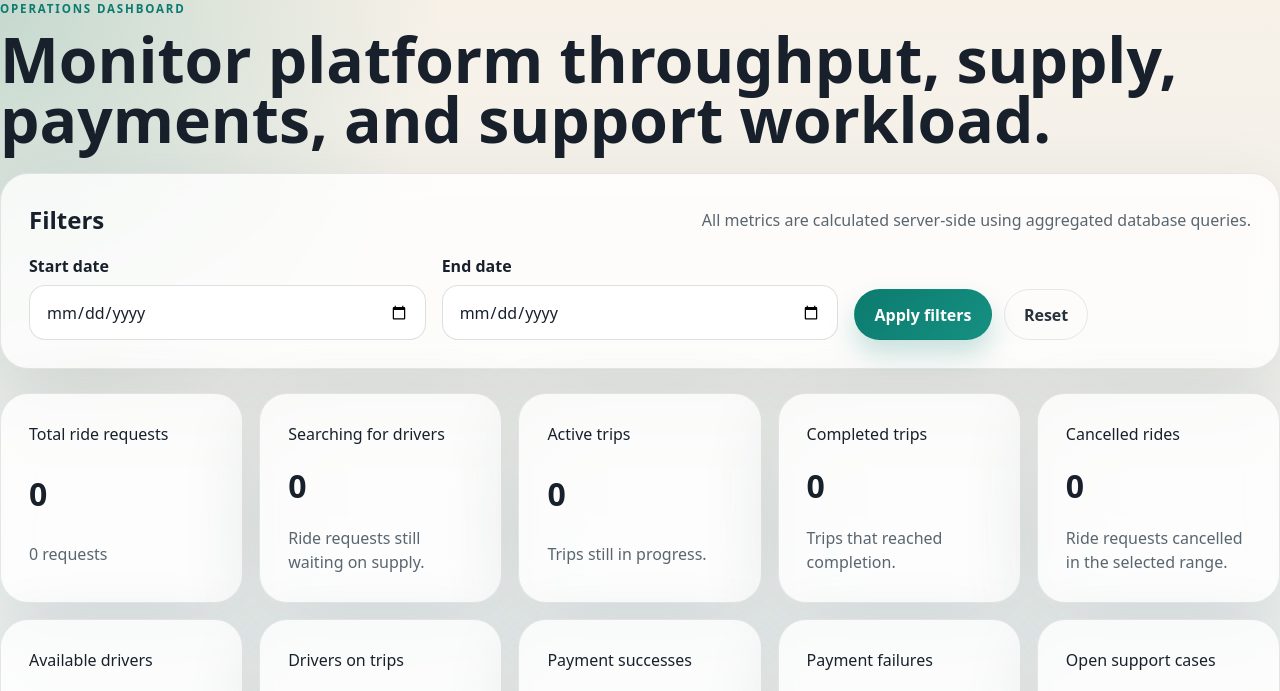
Scenario: OperationsDashboardPage › shows a validation error for an invalid date range and does not refetch metrics
This screenshot has width=1280, height=691.
Expected: the text "Operations dashboard" is shown, [0,1,186,16]
Type "2026-08-11" into the date field labelled "Start date" at (227, 313), box [29,285,426,340]
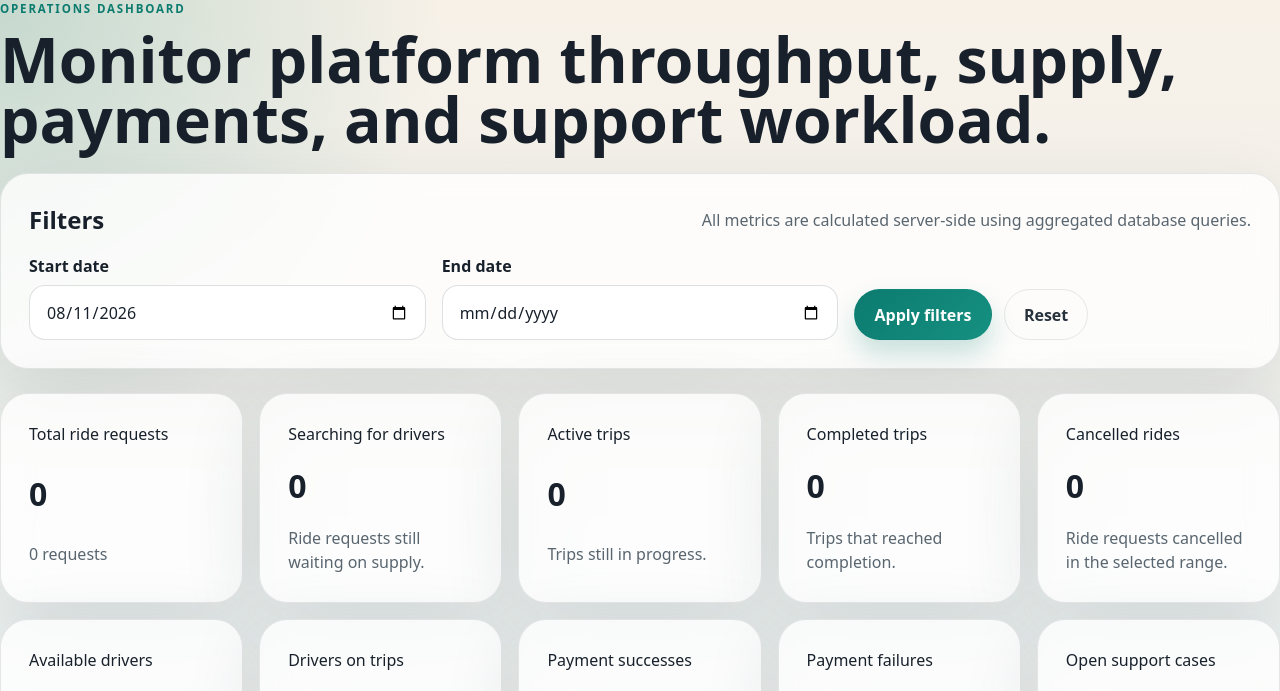
Type "2026-08-10" into the date field labelled "End date" at (640, 313), box [442,285,838,340]
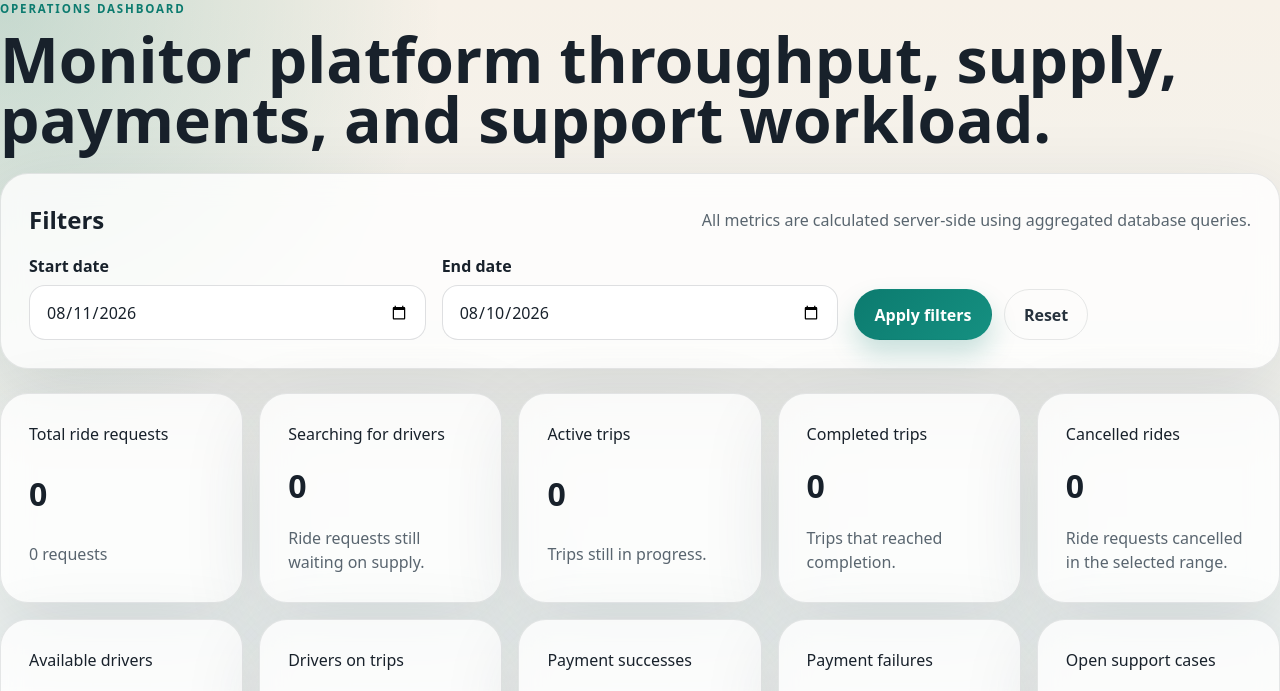
Click the button "Apply filters" at (923, 315), box [854,289,992,340]
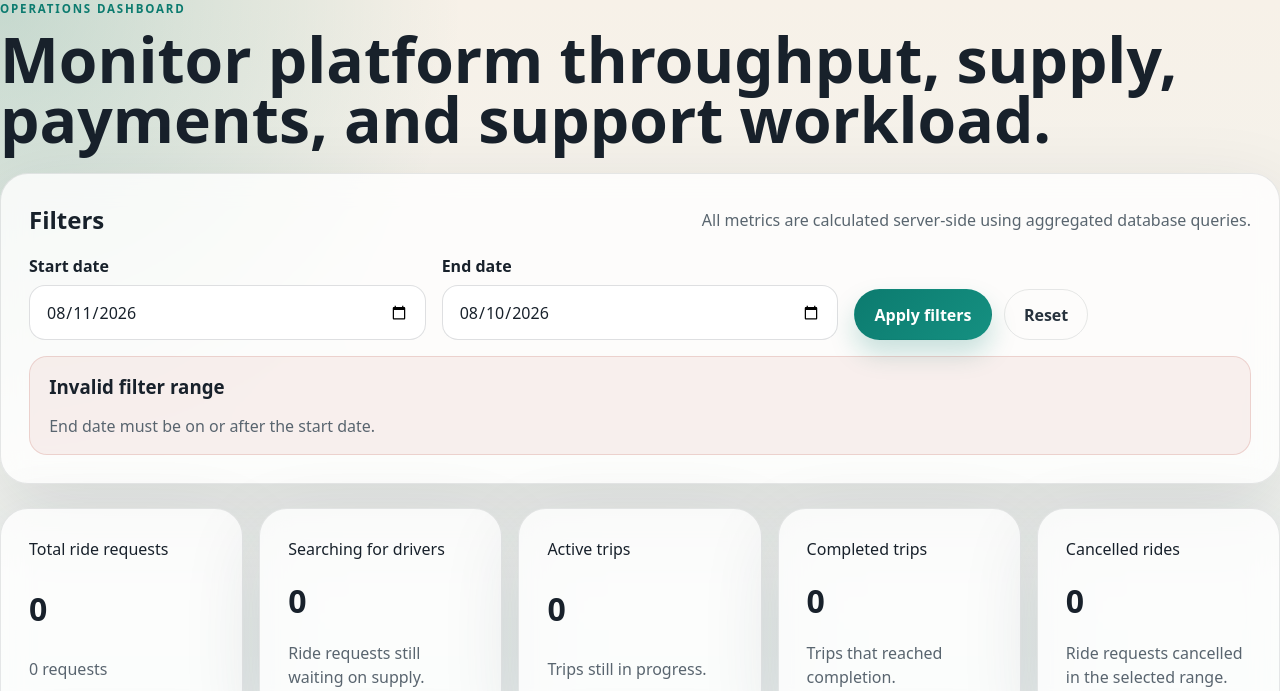
Expected: the text "End date must be on or after the start date." is shown, [49,414,375,438]
